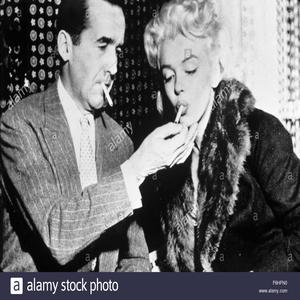cigarette: (99, 79, 117, 112), (172, 103, 186, 126)
